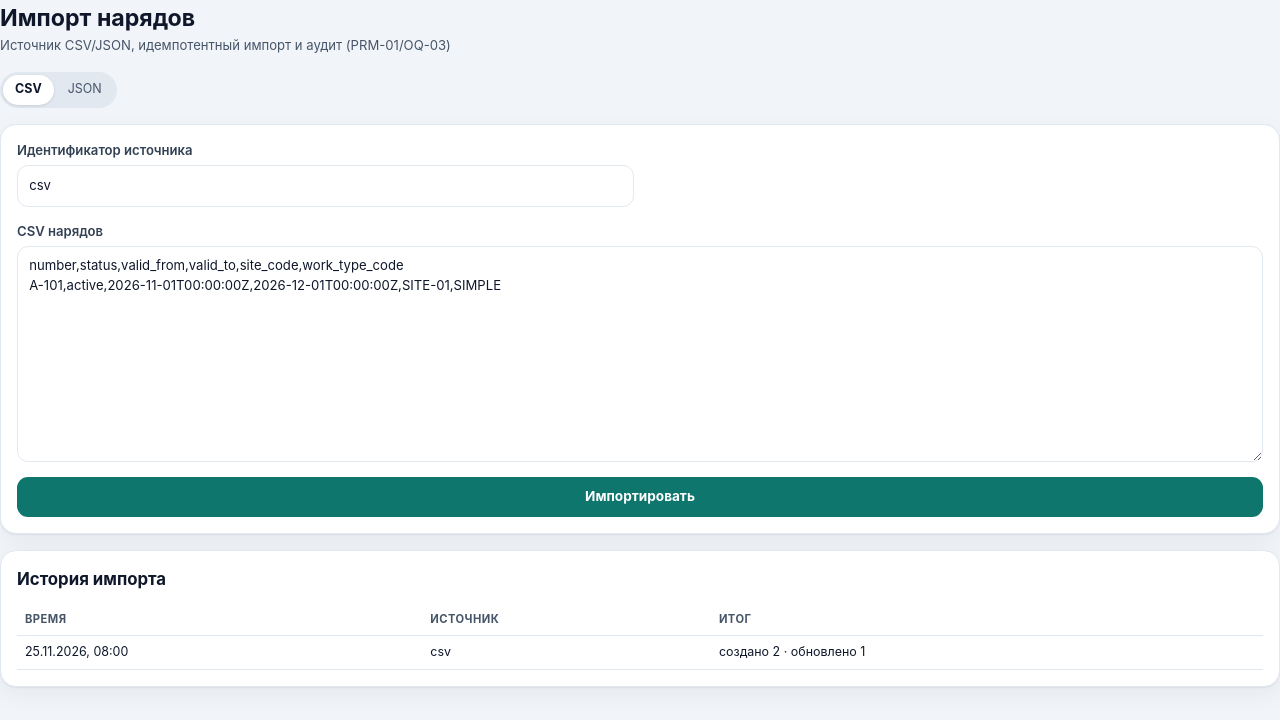
Test case: AdminImportsScreen › imports CSV and shows the result and history
This screenshot has width=1280, height=720.
Click the button "Импортировать". click: click(640, 497)
box: x1=17 y1=477 x2=1263 y2=517
(page scrolled)
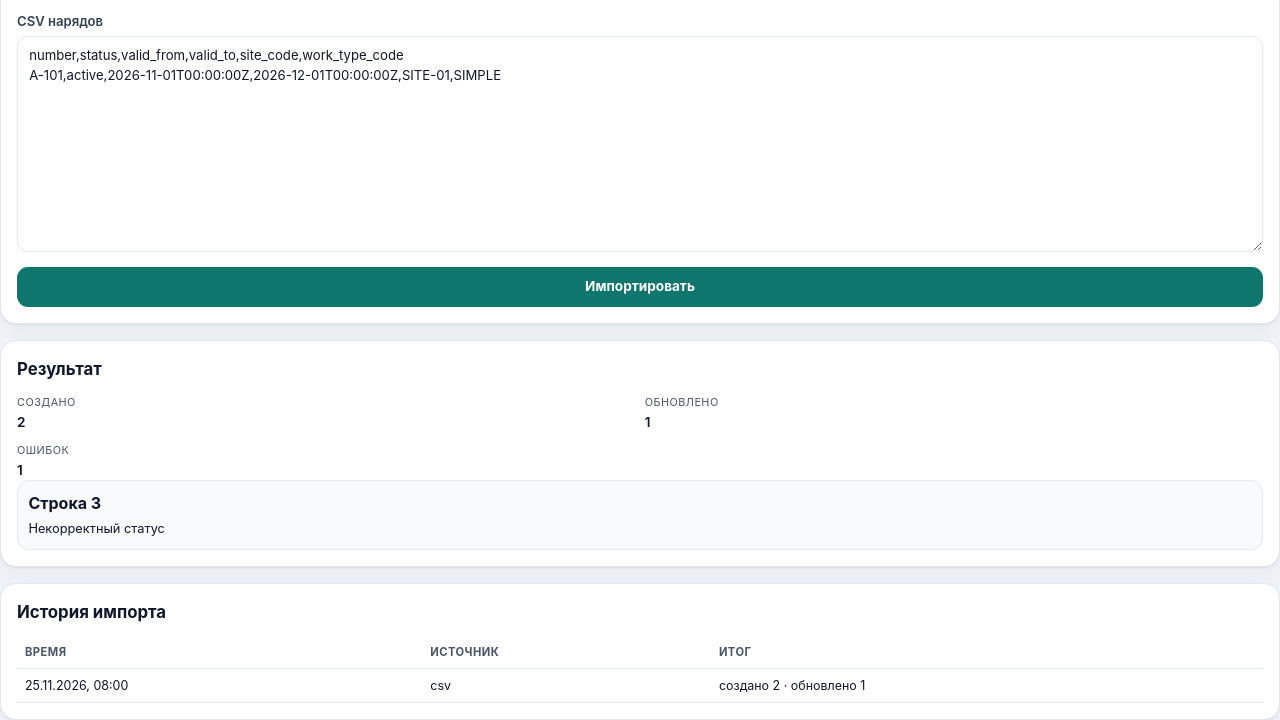
Expected: the heading "История импорта" is shown, x1=17 y1=602 x2=166 y2=622
Expected: the heading "Результат" is shown, x1=17 y1=359 x2=102 y2=379
Expected: the text "Некорректный статус" is shown, x1=28 y1=522 x2=165 y2=536
